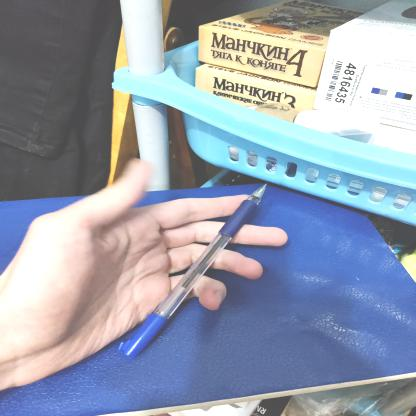Pen: (96, 171, 288, 364)
